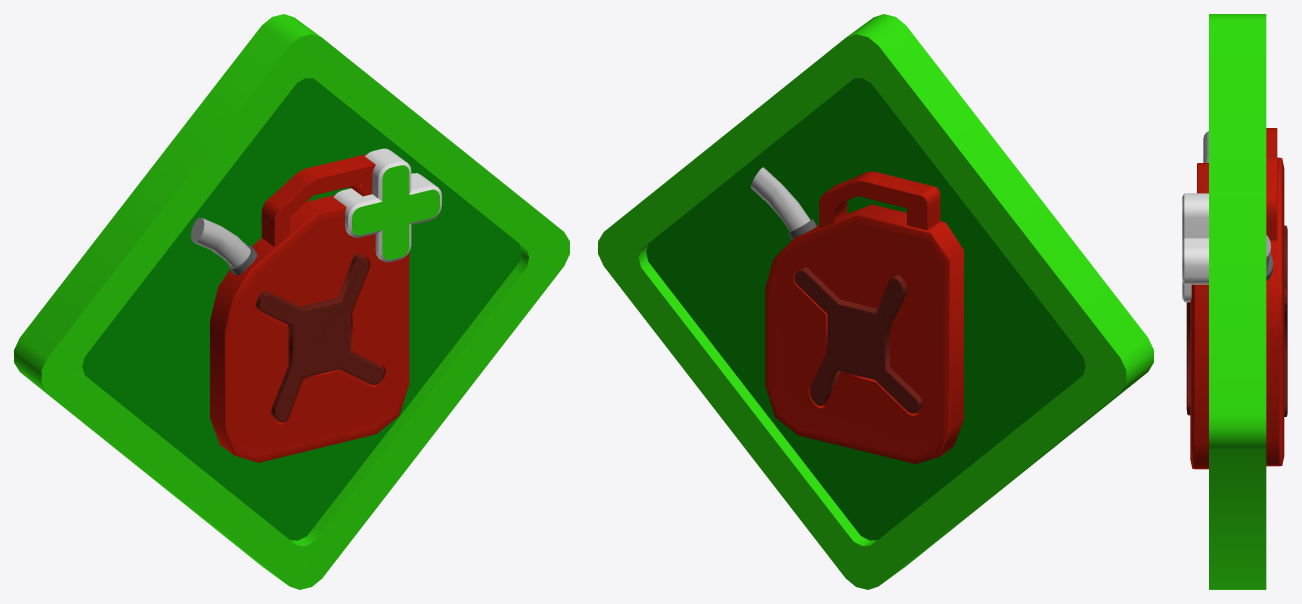
File: fuel_positive.fbx
3 renders of one model, left to right at view 1: azimuth 30°, elevation 25°; view 2: azimuth 150°, elevation 25°; view 3: azimuth 270°, elevation 25°, orthographic. The views are drawn at different scales.
Parts seen in each view (by area): view 1: fuel positive, fuel.001; view 2: fuel positive, fuel.001; view 3: fuel positive, fuel.001.
Part boxes in pixels (x1,y1,x2,y2): fuel positive: (14, 14, 569, 589); fuel.001: (191, 154, 409, 462); fuel positive: (598, 14, 1153, 589); fuel.001: (751, 167, 963, 463); fuel positive: (1182, 14, 1266, 589); fuel.001: (1186, 128, 1287, 469).
Bounding box in the file's own units: 2.72 × 0.4556 × 2.72.
